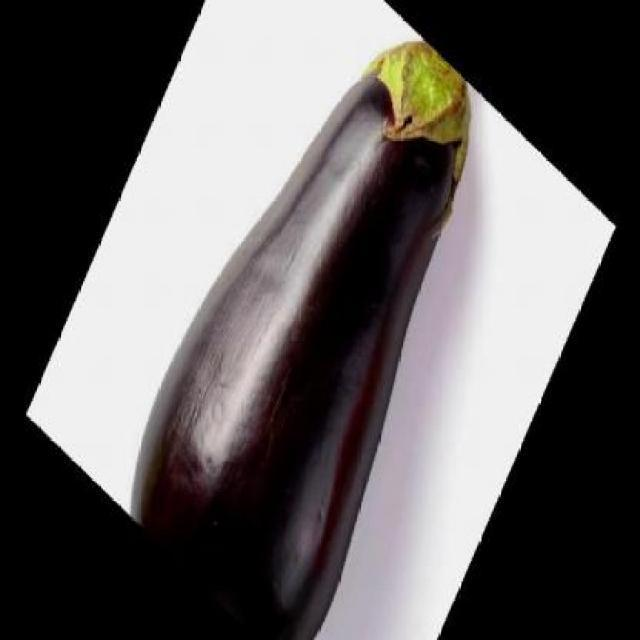eggplant: (110, 35, 477, 639)
